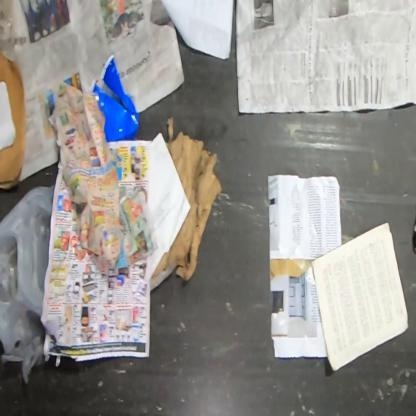cardboard: (152, 117, 222, 281), (0, 48, 27, 190)
rigid_plastic: (0, 184, 55, 387), (89, 54, 139, 142)
